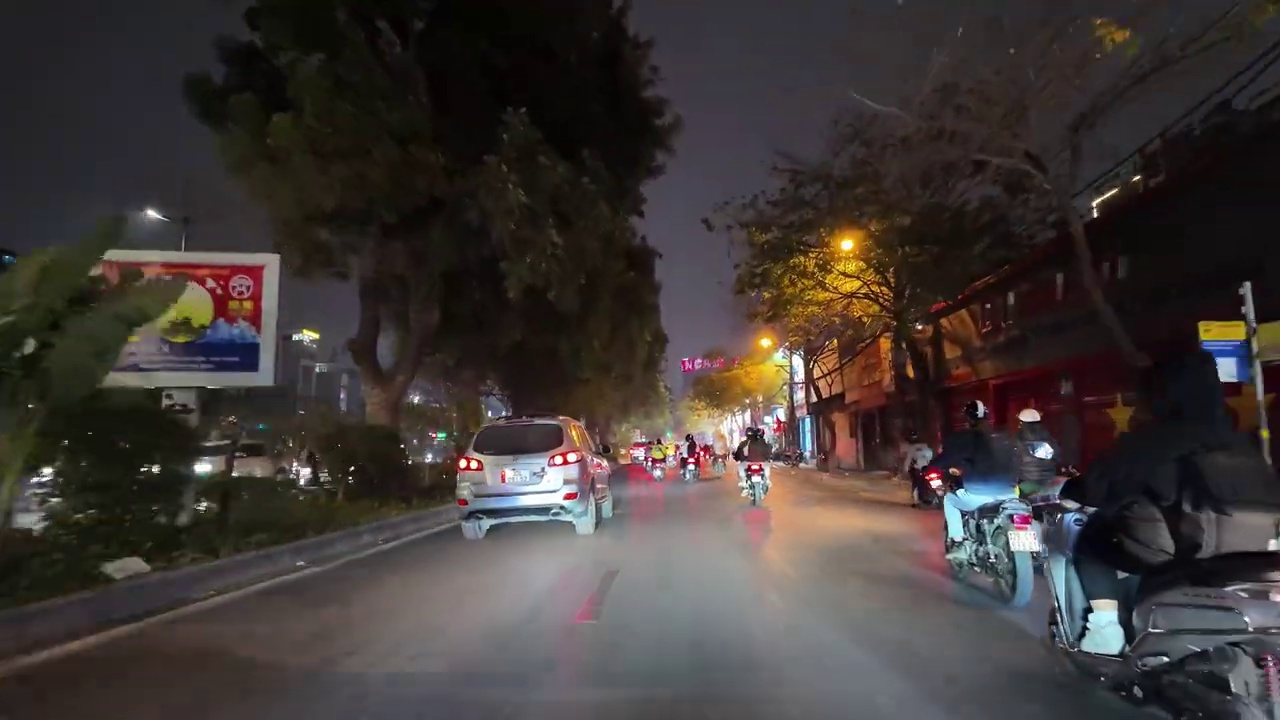acesa: (748, 329, 782, 380), (831, 232, 863, 263), (751, 330, 779, 356)
